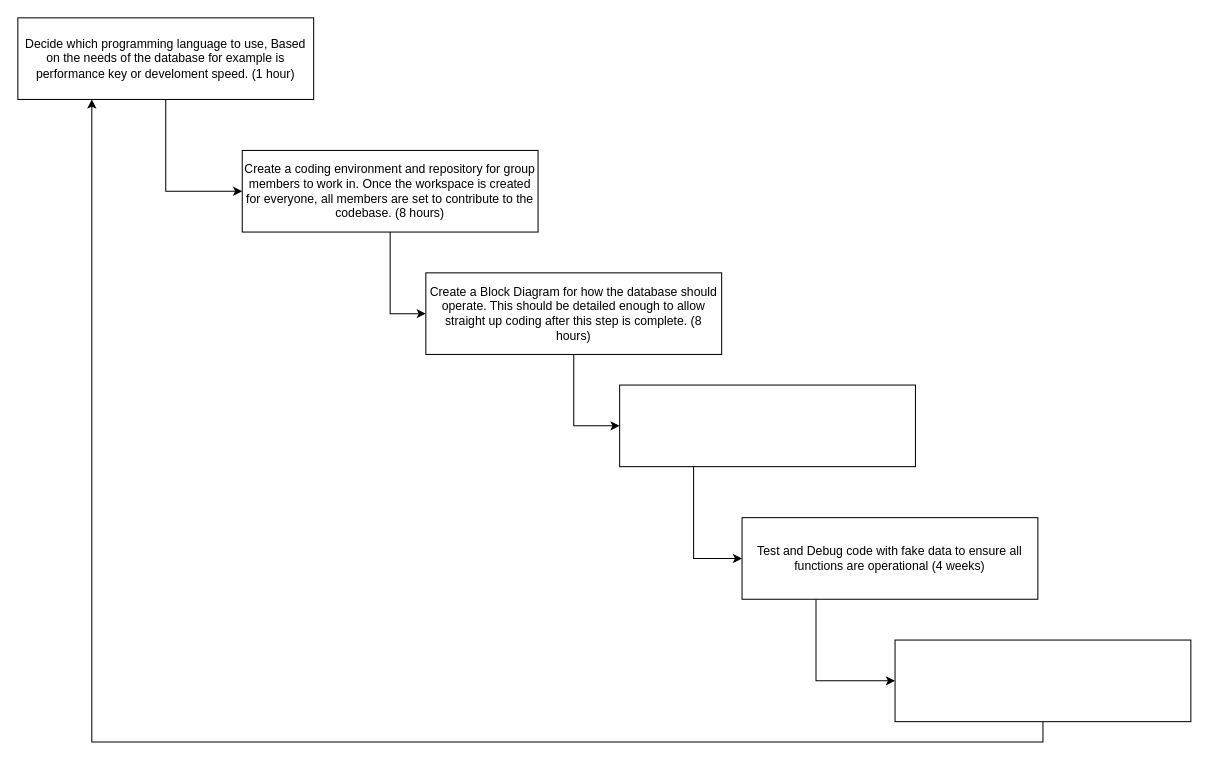
Some shapes in this 1209 by 768 pixel diagram are drawn without their labels. The shapes that lost their labels are listed below. From the top down, each one's centre as x and y in pixels, then its label:
pixel 767 425: Implement the processes mentioned in the block diagram
pixel 1042 680: Upgrade & Maintain database as Schools needs grow. (TBA)
